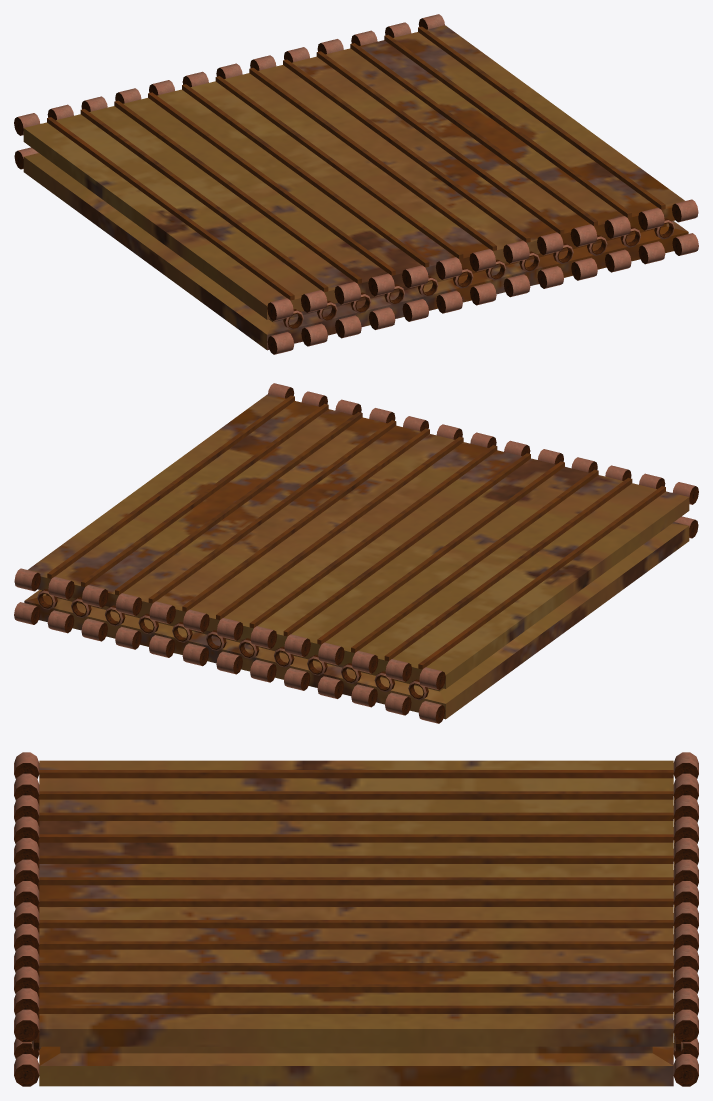
The model's file is Platform.fbx.
3 renders of one model, top to bottom at view 1: azimuth 30°, elevation 25°; view 2: azimuth 150°, elevation 25°; view 3: azimuth 270°, elevation 25°, orthographic. The views are drawn at different scales.
Parts seen in each view (by area): view 1: PlatformOne1; view 2: PlatformOne1; view 3: PlatformOne1.
Boxes of the visible parts, x1=… form: PlatformOne1: x1=14, y1=14, x2=698, y2=354; PlatformOne1: x1=14, y1=383, x2=698, y2=723; PlatformOne1: x1=14, y1=752, x2=698, y2=1086.
Bounding box in the file's own units: 100 × 11.46 × 108.
